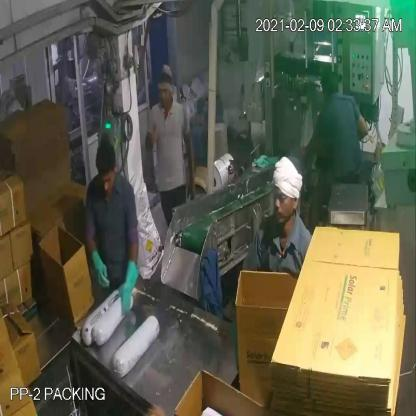glove: (82, 239, 114, 298), (116, 259, 144, 322)
no_glove: (178, 116, 202, 213), (141, 124, 164, 152)
